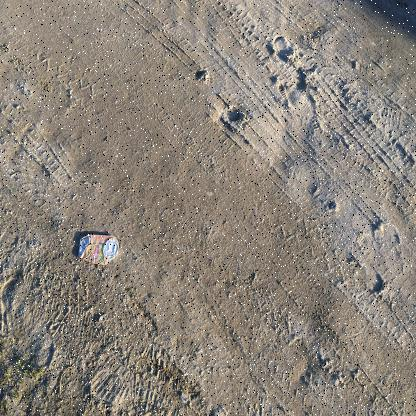Drink can: (79, 235, 119, 266)
Pop tab: (80, 239, 87, 248)
